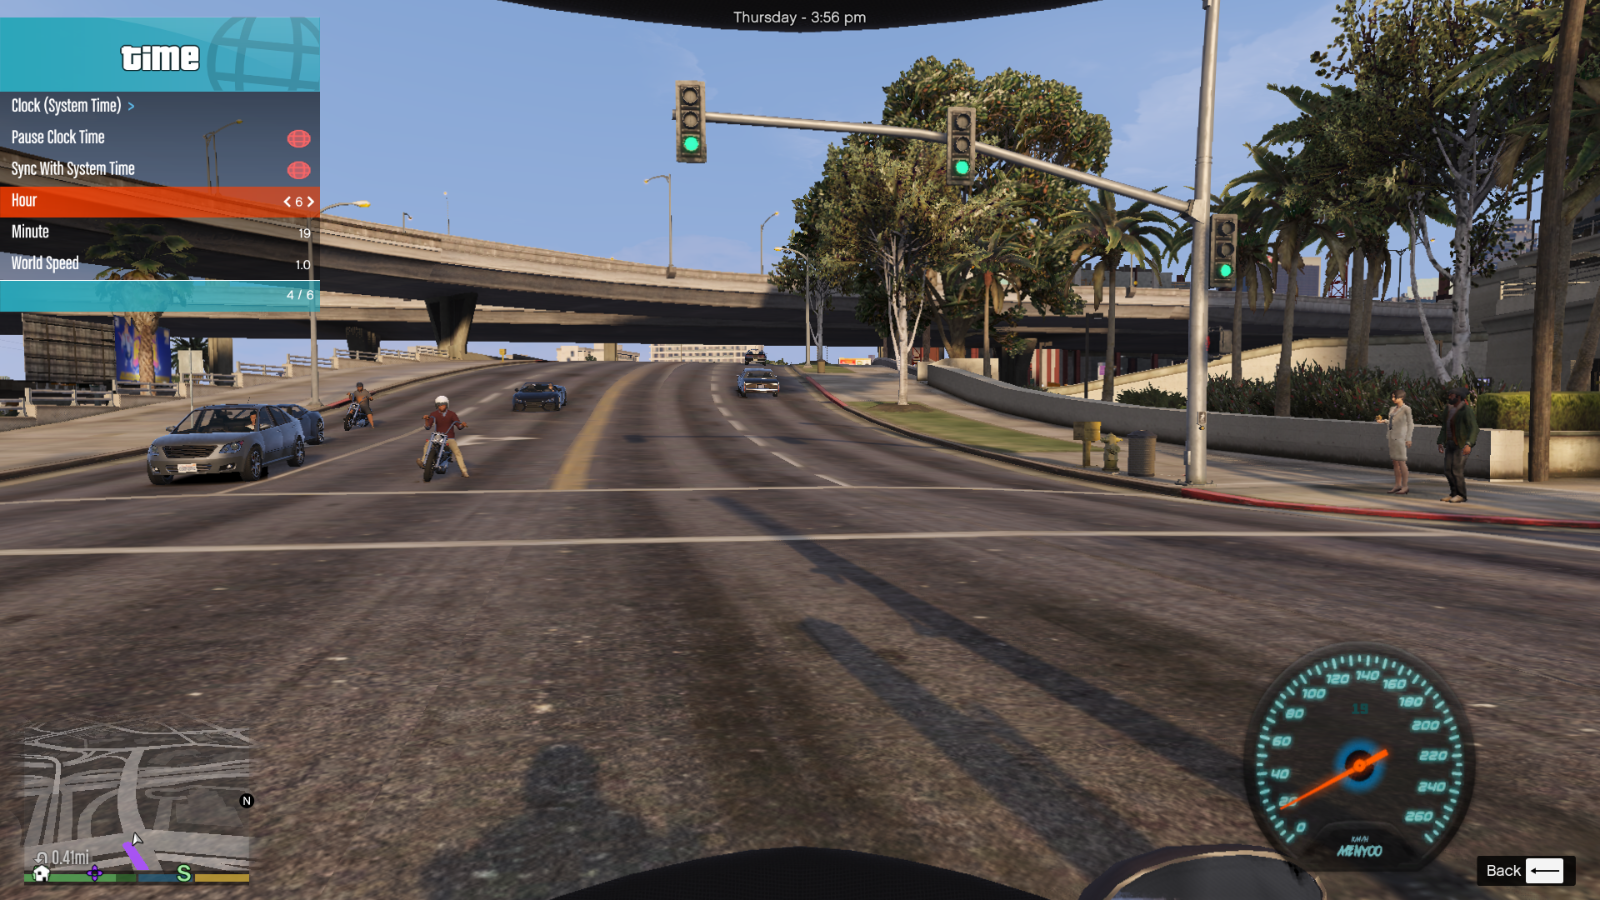green: (1207, 210, 1241, 295), (677, 84, 710, 165), (947, 105, 980, 184)
